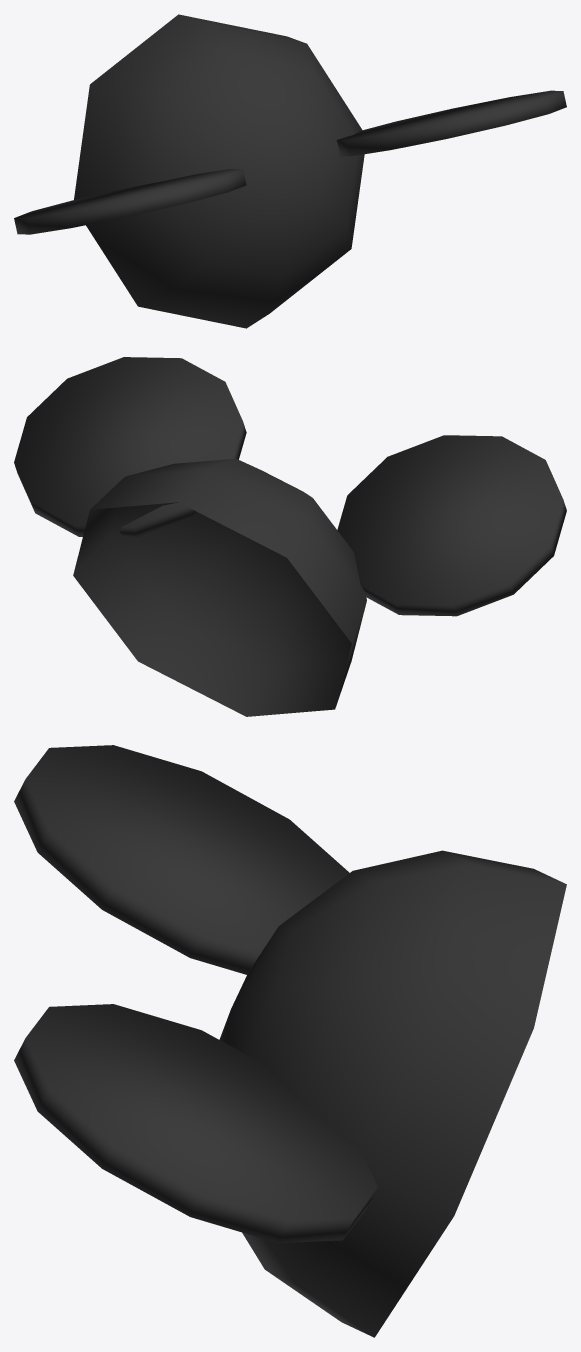
Rendered from hat-mouse.glb.
3 renders of one model, top to bottom at view 1: azimuth 30°, elevation 25°; view 2: azimuth 150°, elevation 25°; view 3: azimuth 270°, elevation 25°, orthographic. The views are drawn at different scales.
Visible parts, largest first — view 1: hat-mouse; view 2: hat-mouse; view 3: hat-mouse.
Part boxes in pixels (left/top/right/bottom): hat-mouse: left=14, top=14, right=566, bottom=328; hat-mouse: left=14, top=357, right=566, bottom=716; hat-mouse: left=14, top=745, right=566, bottom=1337.
Size of the model in its own units: 2.03 by 1.02 by 1.12.
Materials: 1 (1 with a texture image).
